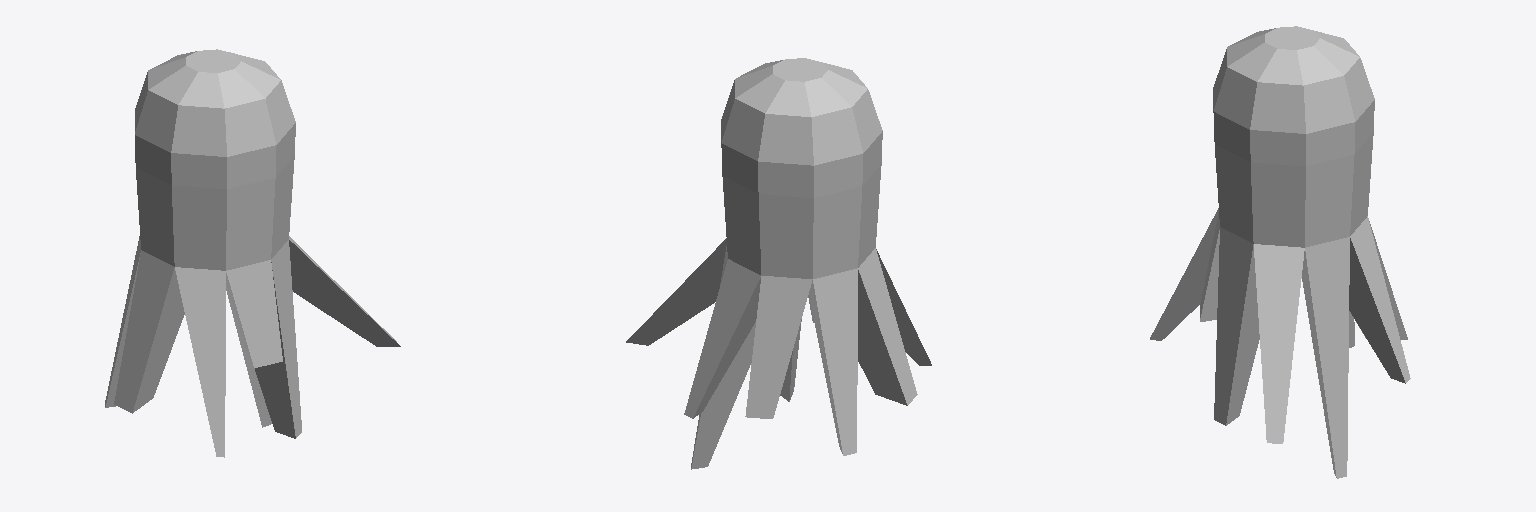
File: cacti6.obj
3 views of the same model, side by side, from view 1: azimuth 30°, elevation 25°; view 2: azimuth 150°, elevation 25°; view 3: azimuth 270°, elevation 25° (orthographic).
Visible parts, largest first — view 1: SeguaroCactusSmall_LOD0; view 2: SeguaroCactusSmall_LOD0; view 3: SeguaroCactusSmall_LOD0.
Boxes of the visible parts, x1,y1,x2,y2 form: SeguaroCactusSmall_LOD0: [105, 49, 400, 457]; SeguaroCactusSmall_LOD0: [626, 58, 931, 469]; SeguaroCactusSmall_LOD0: [1150, 26, 1410, 478].
Bounding box in the file's own units: 0.4752 × 0.643 × 0.3817.